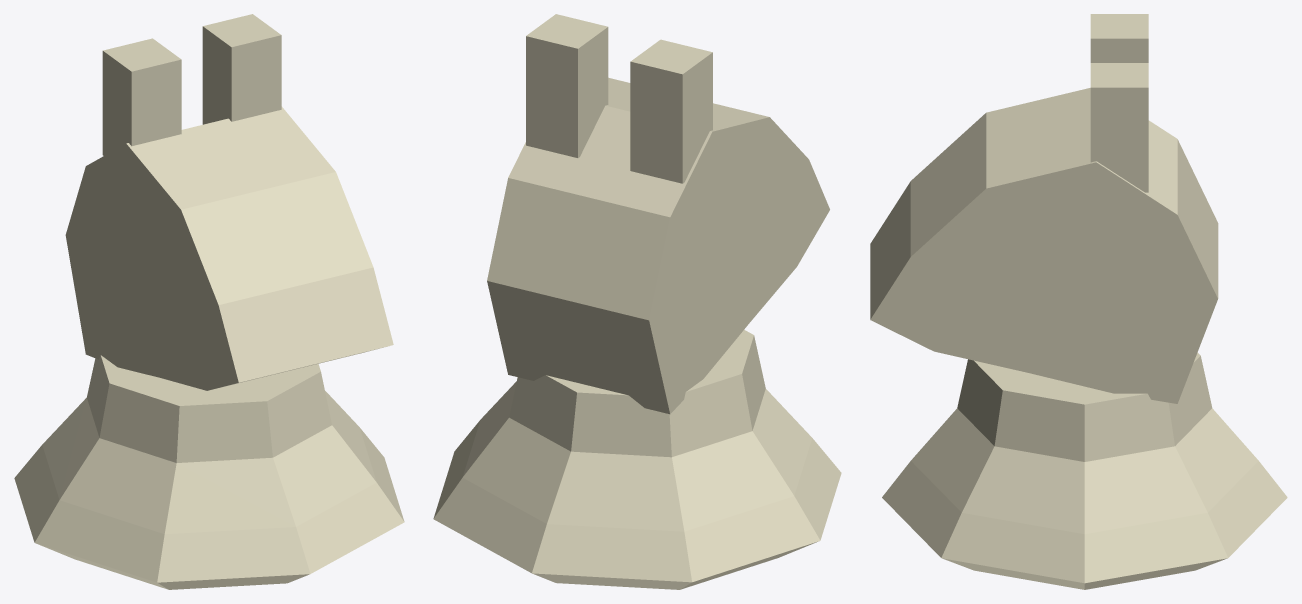
File: knight.obj
3 views of the same model, side by side, from view 1: azimuth 30°, elevation 25°; view 2: azimuth 150°, elevation 25°; view 3: azimuth 270°, elevation 25° (orthographic). The views are drawn at different scales.
Size of the model in its own units: 0.7 by 0.9 by 0.72.
